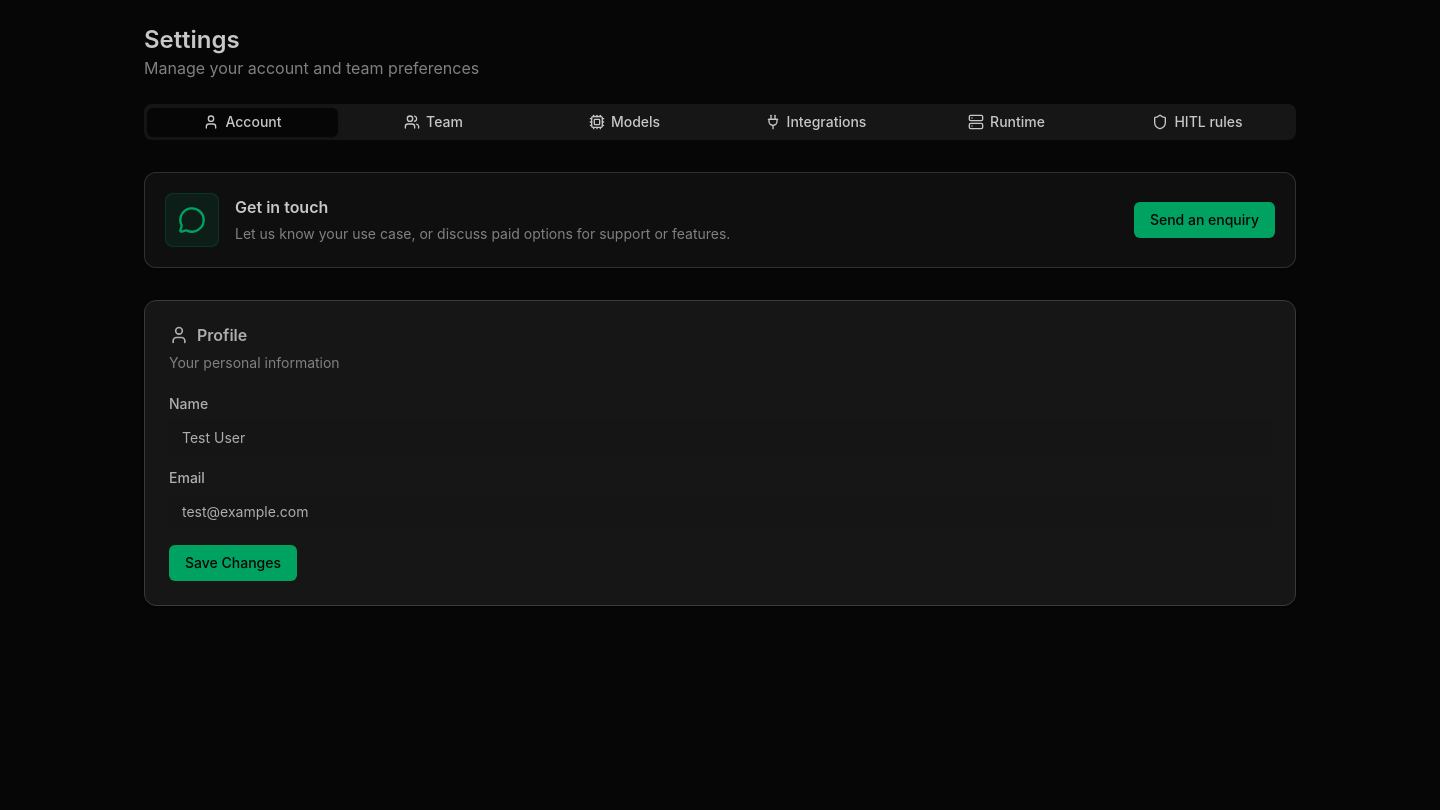
Scenario: SettingsView › shows team members when loaded
Click the tab "Team" at x=434, y=122, box [338,108,529,136]
(page scrolled)
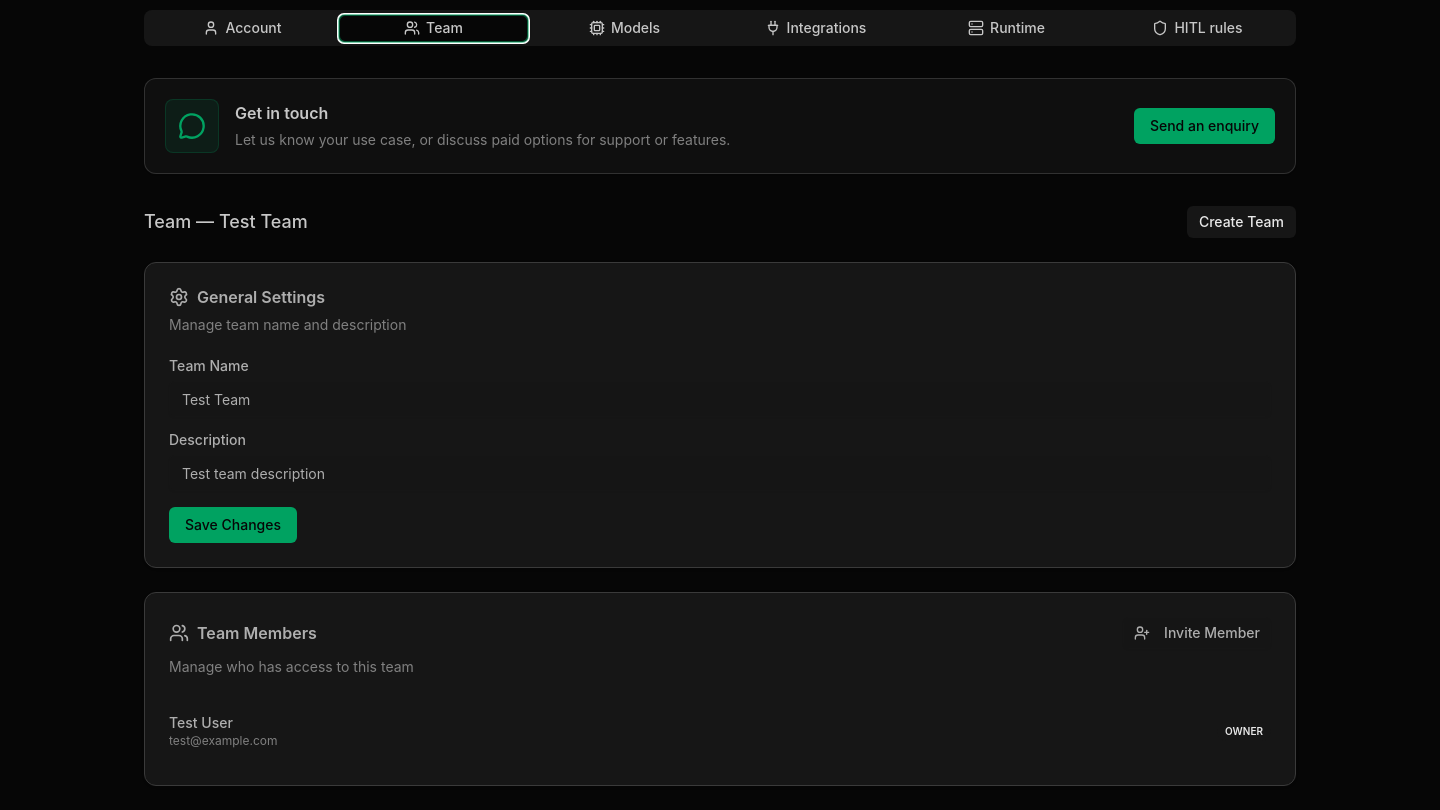
Check: the text "Test User" is shown, box [169,714,233,731]
